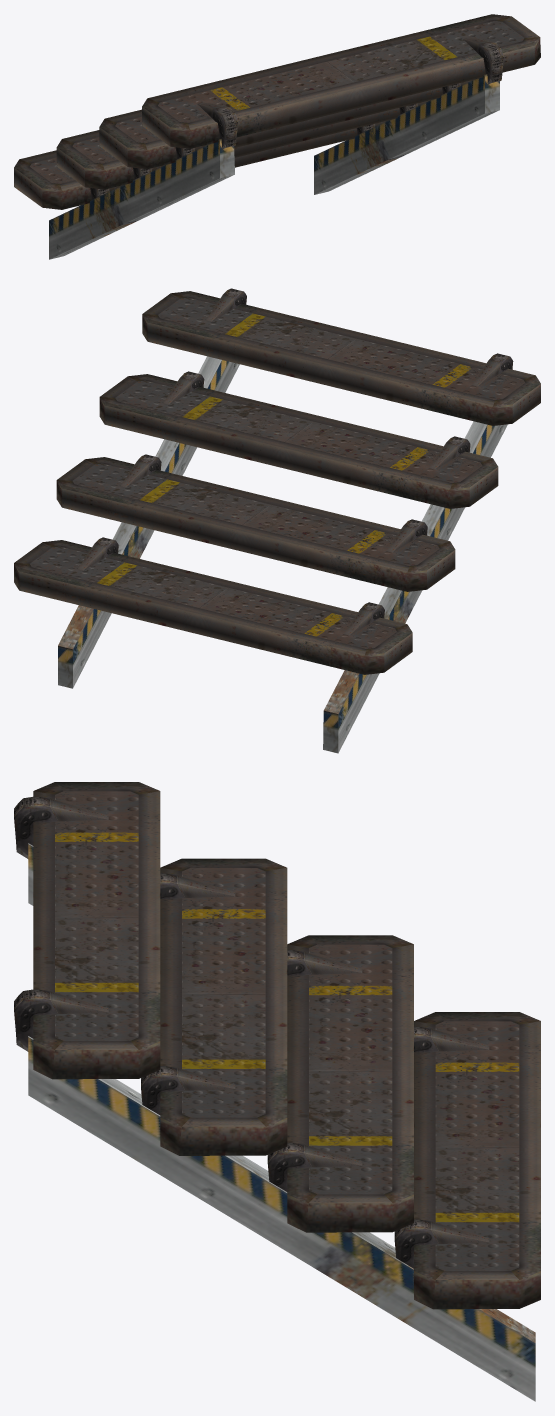
File: Floor_E_2'5qmts_09.fbx
The picture shows the model from 3 angles, top to bottom: view 1: azimuth 30°, elevation 25°; view 2: azimuth 150°, elevation 25°; view 3: azimuth 270°, elevation 25°; orthographic projection. The views are drawn at different scales.
Parts seen in each view (by area): view 1: Floor_E_2'5qmts_09; view 2: Floor_E_2'5qmts_09; view 3: Floor_E_2'5qmts_09.
Part boxes in pixels (box(x1,y1,x2,y2)): Floor_E_2'5qmts_09: box(14, 14, 540, 259); Floor_E_2'5qmts_09: box(14, 288, 540, 753); Floor_E_2'5qmts_09: box(14, 782, 540, 1401).
Bounding box in the file's own units: 250 × 175 × 208.
1 material, 1 textured.
